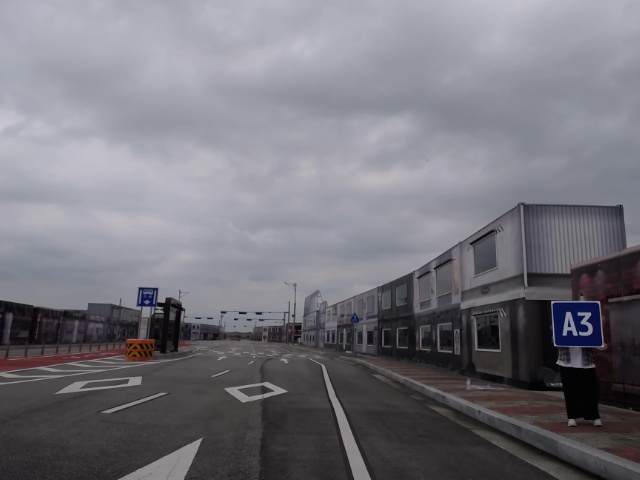delivery_a3: (551, 301, 603, 347)
